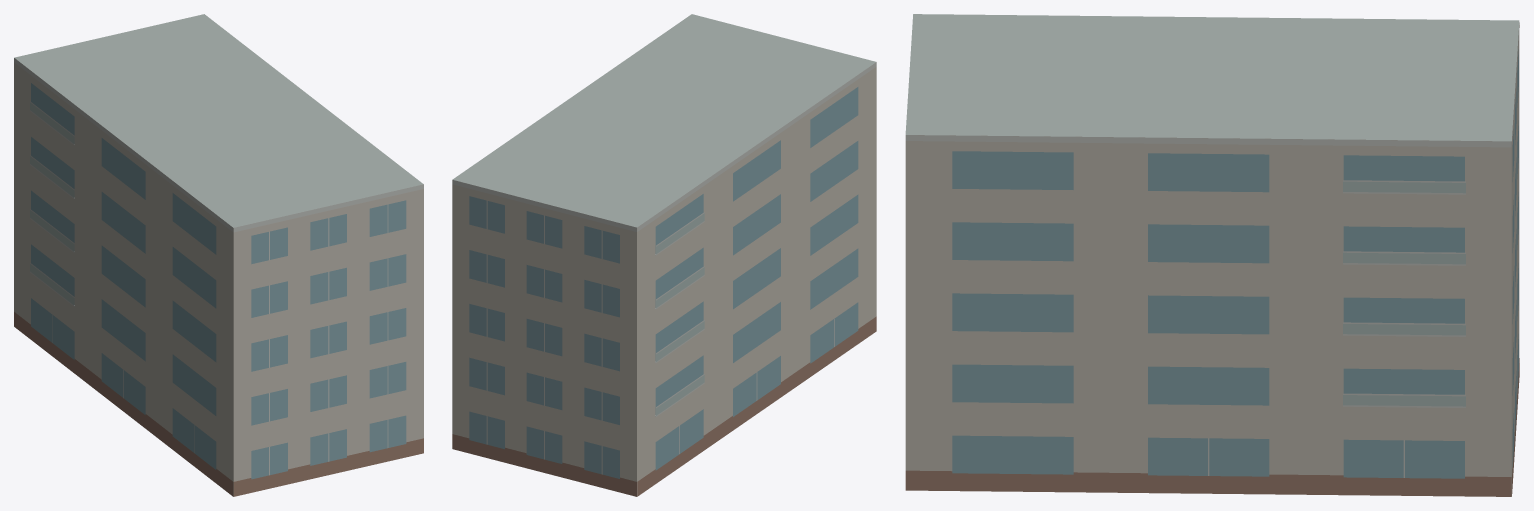
The model's file is survey-upis-32993975.glb.
3 views of the same model, side by side, from view 1: azimuth 30°, elevation 25°; view 2: azimuth 150°, elevation 25°; view 3: azimuth 270°, elevation 25° (orthographic). The views are drawn at different scales.
Parts seen in each view (by area): view 1: survey-upis-32993975.tmp; view 2: survey-upis-32993975.tmp; view 3: survey-upis-32993975.tmp.
Boxes of the visible parts, x1,y1,x2,y2 form: survey-upis-32993975.tmp: [14, 14, 423, 496]; survey-upis-32993975.tmp: [452, 14, 876, 496]; survey-upis-32993975.tmp: [905, 14, 1519, 496].
Size of the model in its own units: 11.03 by 14.35 by 22.47.
